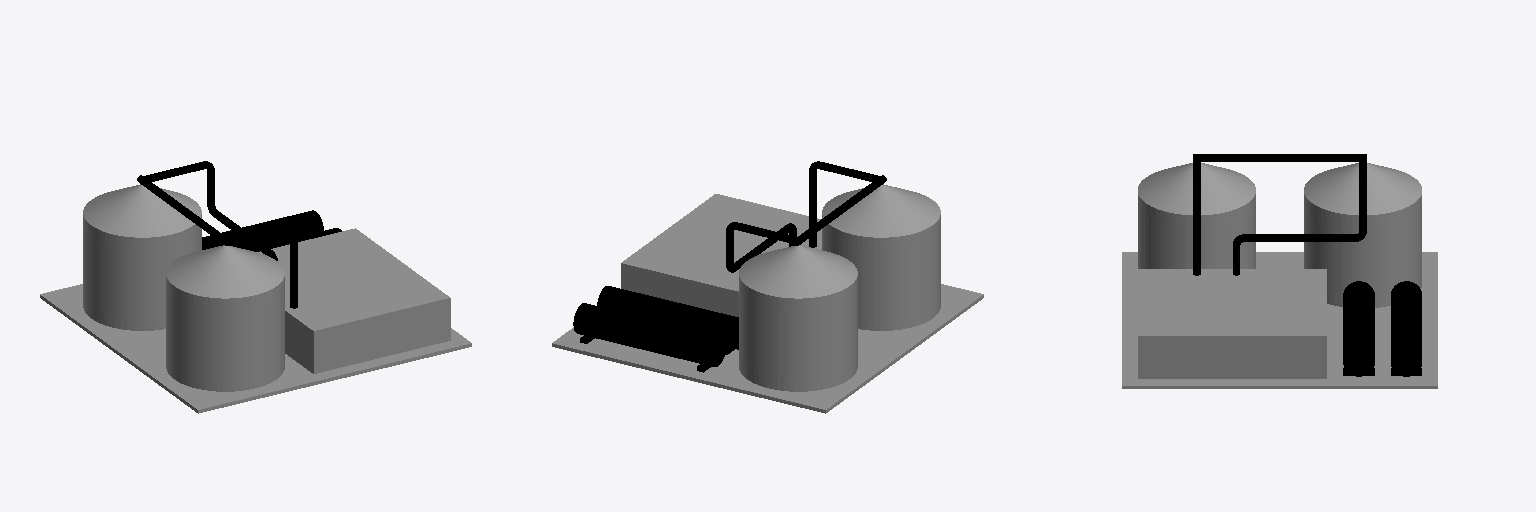
File: BiofuelPlant.obj
3 views of the same model, side by side, from view 1: azimuth 30°, elevation 25°; view 2: azimuth 150°, elevation 25°; view 3: azimuth 270°, elevation 25° (orthographic).
Size of the model in its own units: 20 by 9.25 by 20.